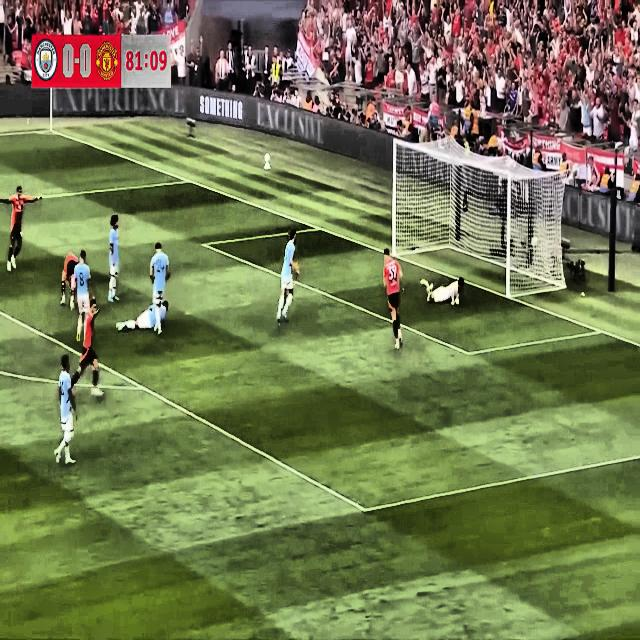ball: (528, 228, 541, 260)
goal_keeper: (414, 264, 468, 318)
players: (0, 179, 42, 275), (67, 288, 104, 396), (380, 239, 413, 353), (275, 219, 305, 325), (54, 351, 78, 471), (148, 236, 170, 336), (112, 301, 174, 335), (105, 204, 124, 306), (74, 249, 93, 344), (60, 246, 83, 312)
